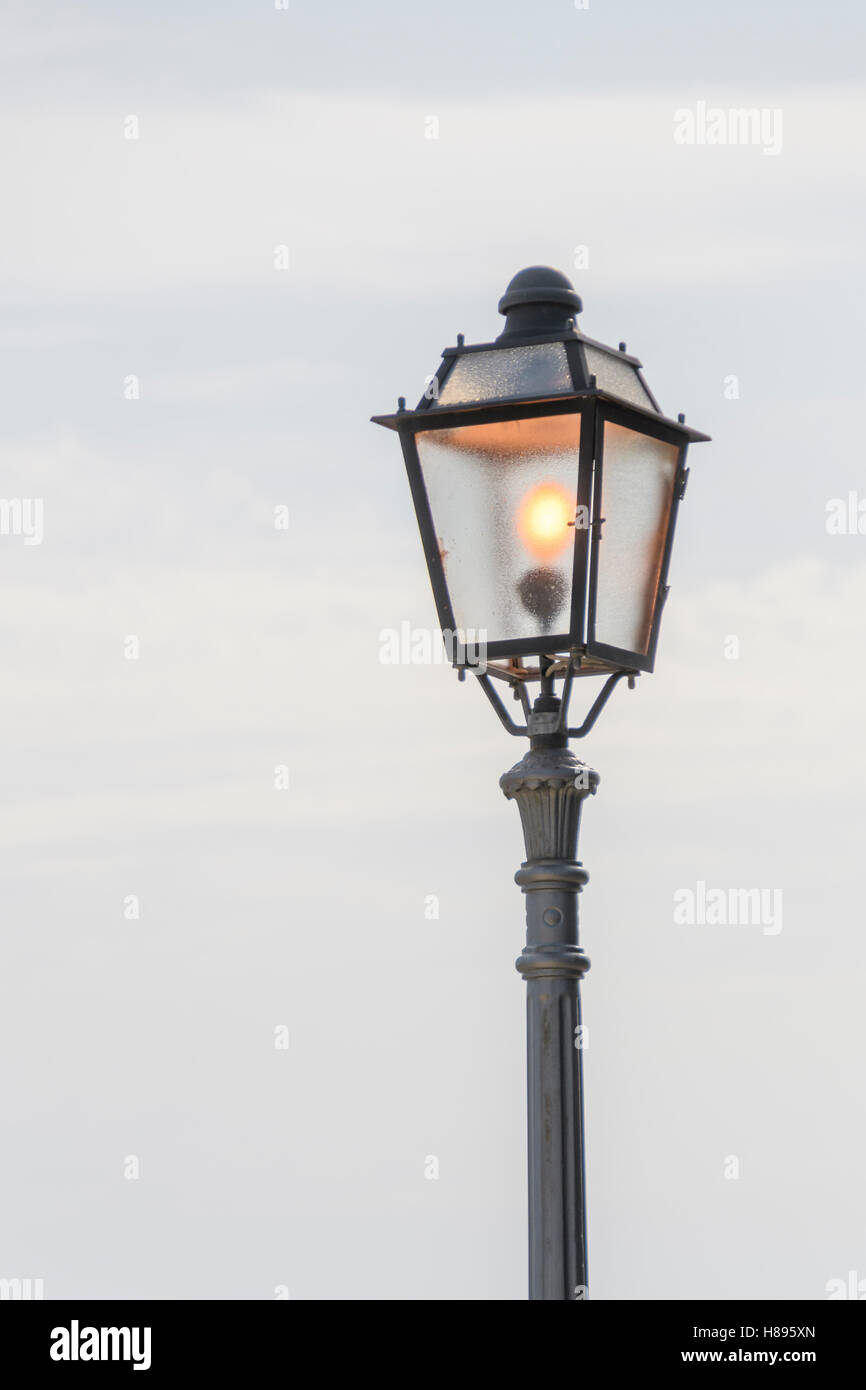Lamp: (352, 253, 719, 1306)
